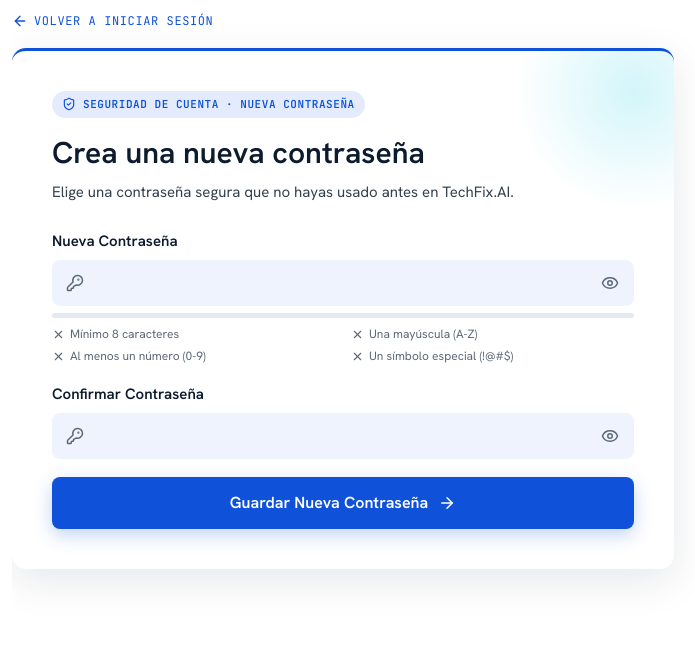
it: restablecer contraseña › exige una contraseña segura y que coincida
The image size is (695, 652).
Type "debil" into the password field labelled "Nueva Contraseña" at point(343, 283), box [52,260,634,306]
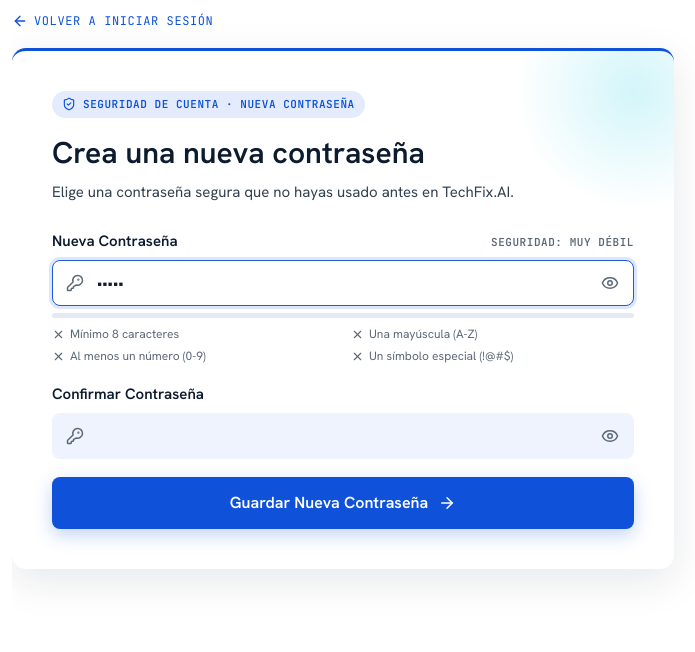
Type "otra" into the password field labelled "Confirmar Contraseña" at point(343, 436), box [52,412,634,459]
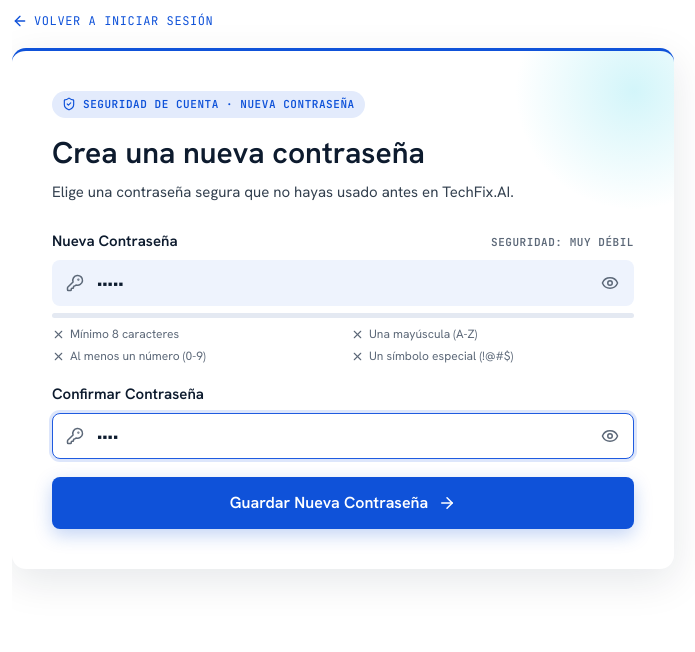
Click the button "Guardar Nueva Contraseña" at point(343, 503), box [52,477,634,529]
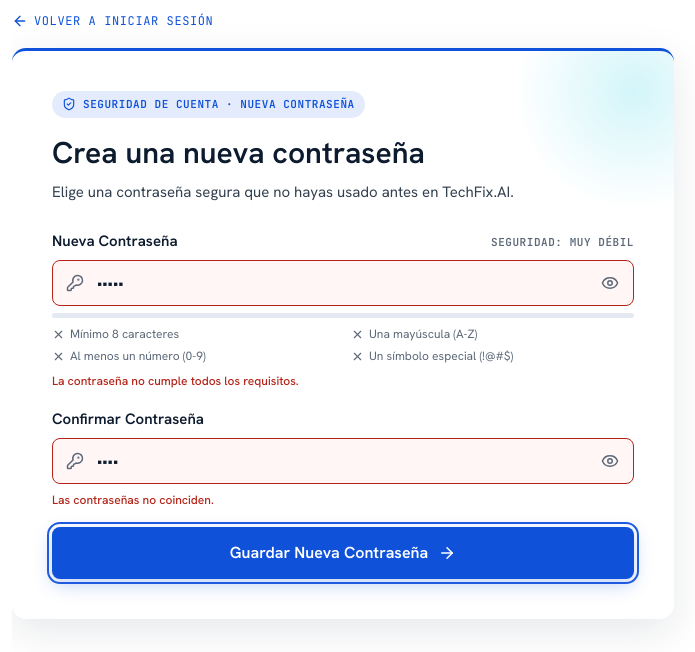
Expected: the text "La contraseña no cumple todos los requisitos." is shown, [52,373,299,389]
Expected: the text "Las contraseñas no coinciden." is shown, [52,492,214,508]
